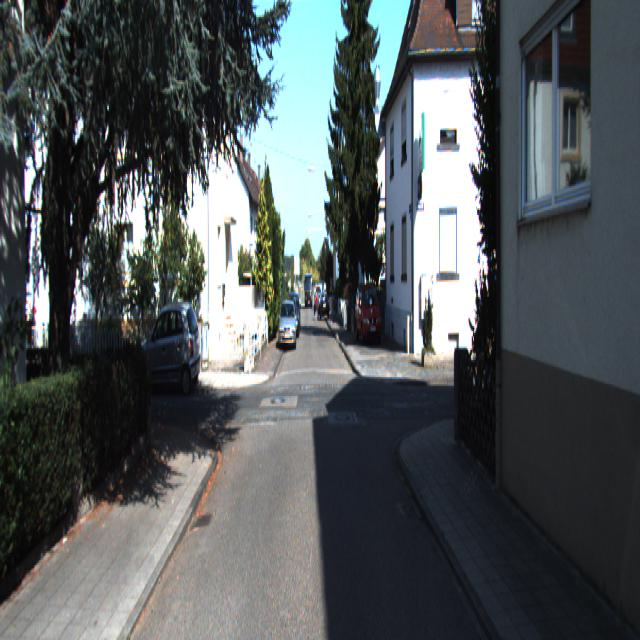Car: (134, 299, 201, 394), (354, 281, 382, 347), (280, 300, 296, 352)
